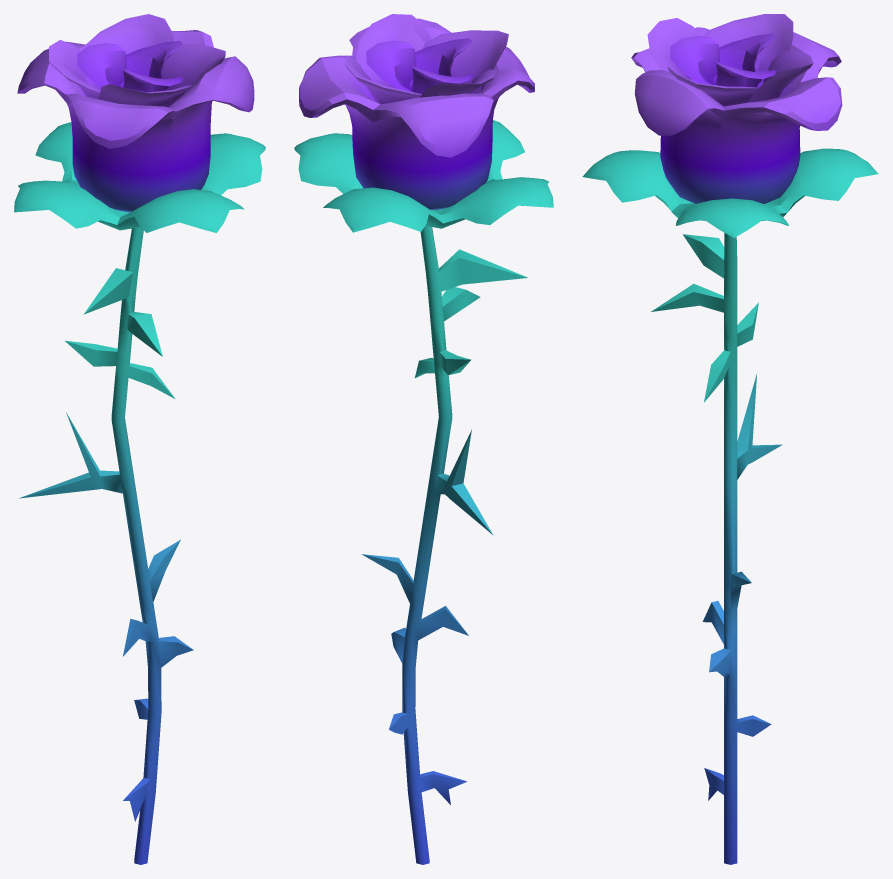
Rendered from Rose.fbx.
3 views of the same model, side by side, from view 1: azimuth 30°, elevation 25°; view 2: azimuth 150°, elevation 25°; view 3: azimuth 270°, elevation 25° (orthographic).
Parts seen in each view (by area): view 1: Cylinder.004, Cylinder.003, Cube.005, Cube.007, Cube.006; view 2: Cylinder.004, Cylinder.003, Cube.005, Cube.007, Cube.006; view 3: Cylinder.004, Cylinder.003, Cube.005, Cube.007, Cube.006.
Boxes of the visible parts, x1,y1,x2,y2 form: Cylinder.004: (17, 30, 254, 212); Cylinder.003: (19, 227, 193, 864); Cube.005: (14, 122, 265, 232); Cube.007: (49, 14, 225, 107); Cube.006: (77, 41, 183, 92); Cylinder.004: (299, 18, 534, 209); Cylinder.003: (361, 226, 527, 864); Cube.005: (294, 120, 553, 232); Cube.007: (344, 14, 508, 104); Cube.006: (366, 38, 473, 93); Cylinder.004: (631, 27, 842, 203); Cylinder.003: (651, 233, 782, 864); Cube.005: (582, 148, 878, 237); Cube.007: (647, 14, 813, 106); Cube.006: (670, 33, 776, 87).
Bounding box in the file's own units: 248 × 753 × 248.
1 material, 1 textured.
